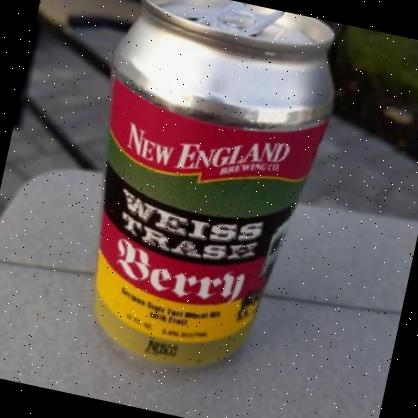can: (52, 0, 351, 395)
